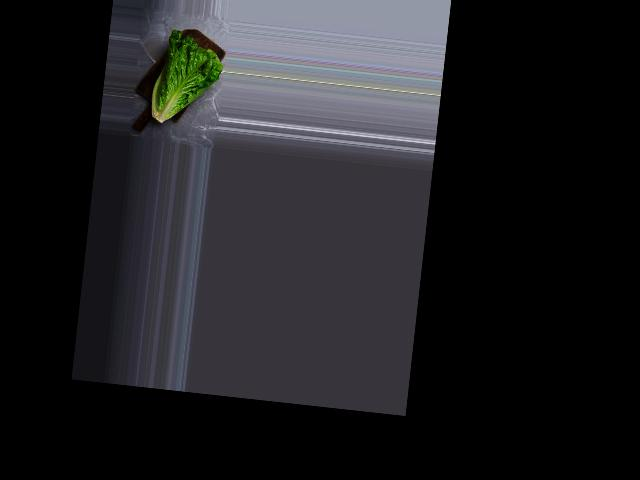lettuce: (128, 25, 223, 145)
